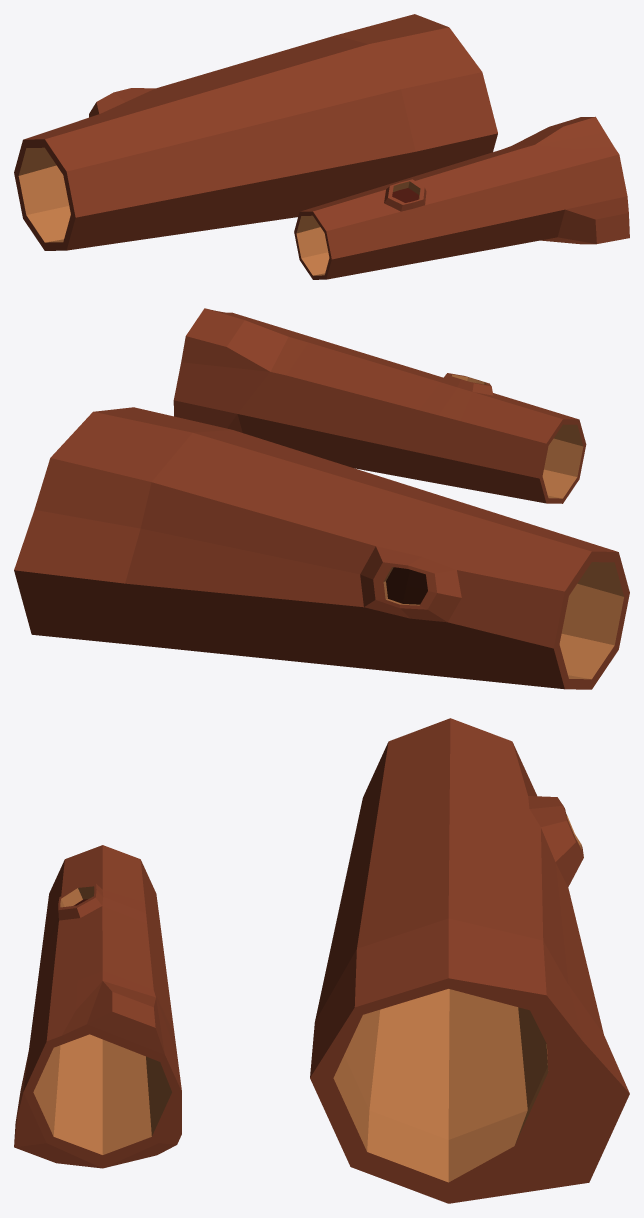
The model's file is broken_trees.fbx.
3 renders of one model, top to bottom at view 1: azimuth 30°, elevation 25°; view 2: azimuth 150°, elevation 25°; view 3: azimuth 270°, elevation 25°, orthographic. The views are drawn at different scales.
Visible parts, largest first — view 1: Cylinder.004, Cylinder.005; view 2: Cylinder.004, Cylinder.005; view 3: Cylinder.004, Cylinder.005.
Part boxes in pixels (x1,y1,x2,y2): Cylinder.004: (14, 14, 497, 250); Cylinder.005: (294, 116, 629, 279); Cylinder.004: (14, 407, 629, 689); Cylinder.005: (173, 308, 586, 503); Cylinder.004: (310, 718, 629, 1203); Cylinder.005: (14, 845, 181, 1168).
Bounding box in the file's own units: 1.7 × 0.6068 × 1.48.
